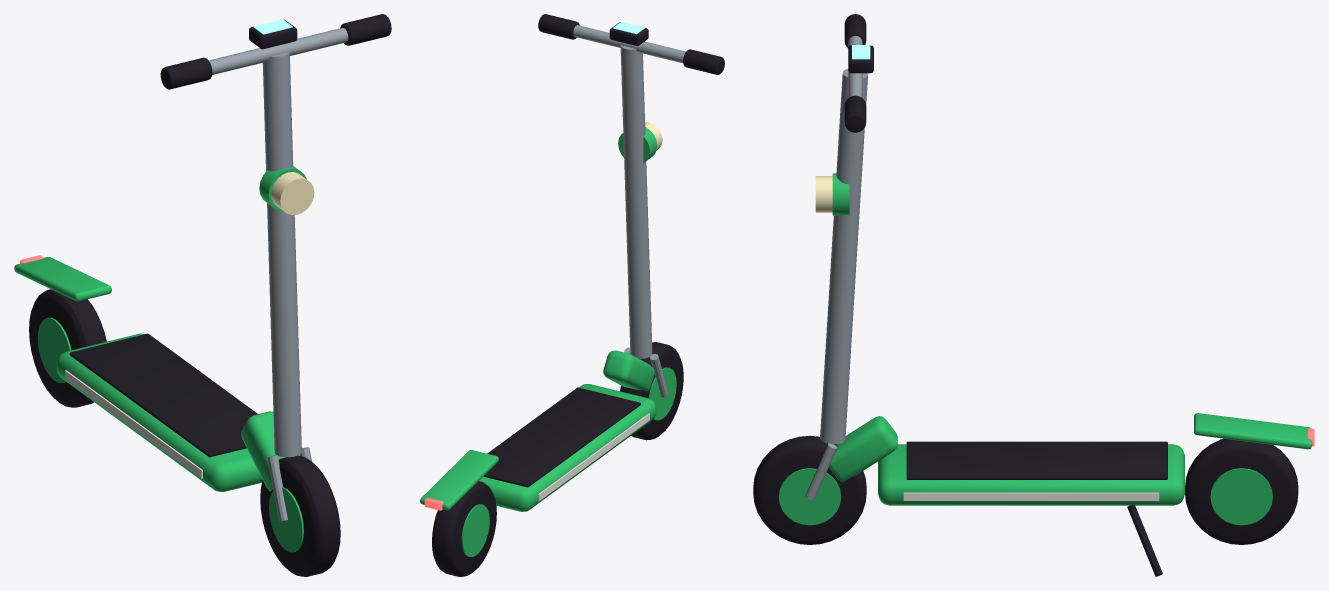
The model's file is Skuter_Listrik.fbx.
3 renders of one model, left to right at view 1: azimuth 30°, elevation 25°; view 2: azimuth 150°, elevation 25°; view 3: azimuth 270°, elevation 25°, orthographic. The views are drawn at different scales.
Visible parts, largest first — view 1: Badan, Roda_Depan, Roda_Belakang; view 2: Badan, Roda_Belakang, Roda_Depan; view 3: Badan, Roda_Belakang, Roda_Depan.
Boxes of the visible parts, <box> form: Badan: <box>14,14,391,521</box>; Roda_Depan: <box>260,455,340,576</box>; Roda_Belakang: <box>29,289,106,407</box>; Badan: <box>420,14,724,511</box>; Roda_Belakang: <box>432,481,496,576</box>; Roda_Depan: <box>620,342,683,440</box>; Badan: <box>805,14,1314,576</box>; Roda_Belakang: <box>1185,438,1298,544</box>; Roda_Depan: <box>753,435,866,544</box>.
Bounding box in the file's own units: 0.84 × 1.9 × 1.98.
